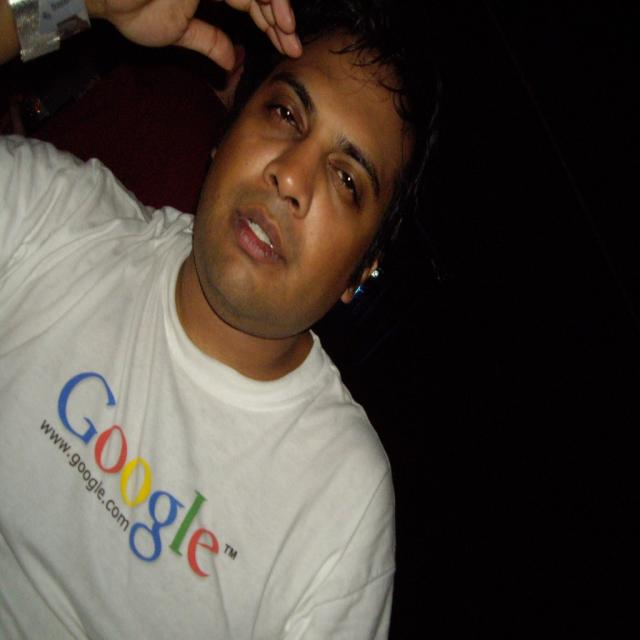google: (54, 367, 224, 585)
